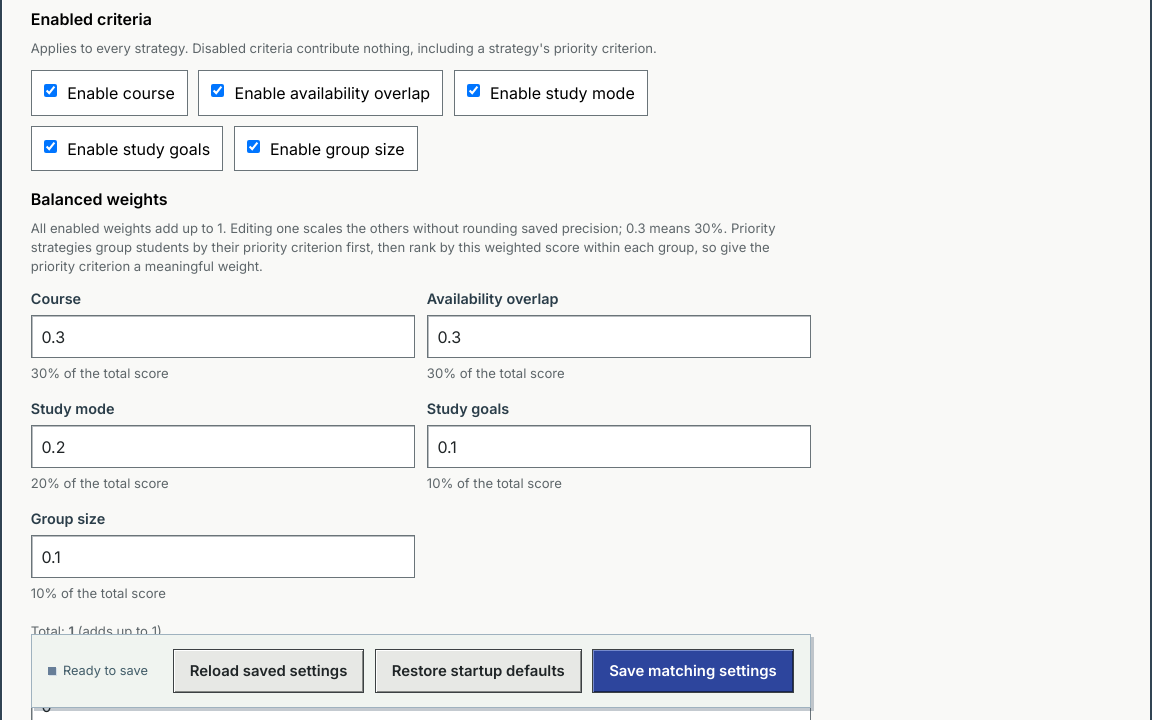
Test: admin matching settings › clears an earlier error as soon as a weight changes
The image size is (1152, 720).
(page scrolled)
Replace the text in the number field labelled "Course" with "10" at (223, 337), box [31,316,415,358]
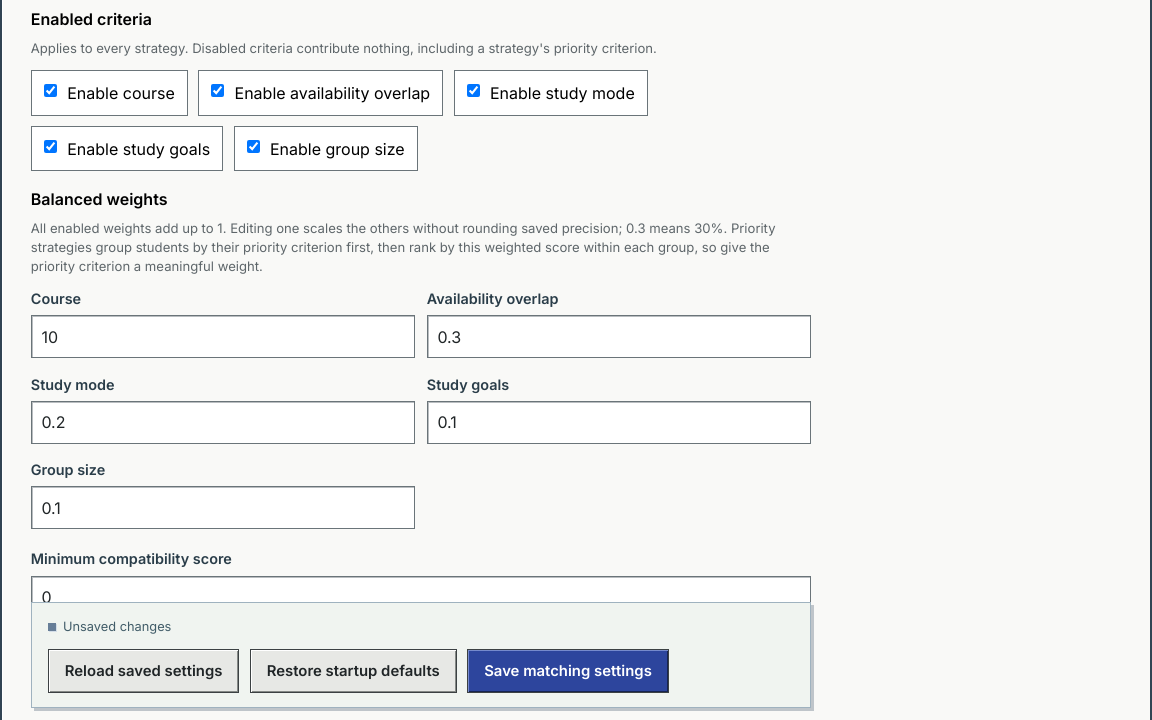
Click the button "Save matching settings" at (568, 671), box [467,649,669,693]
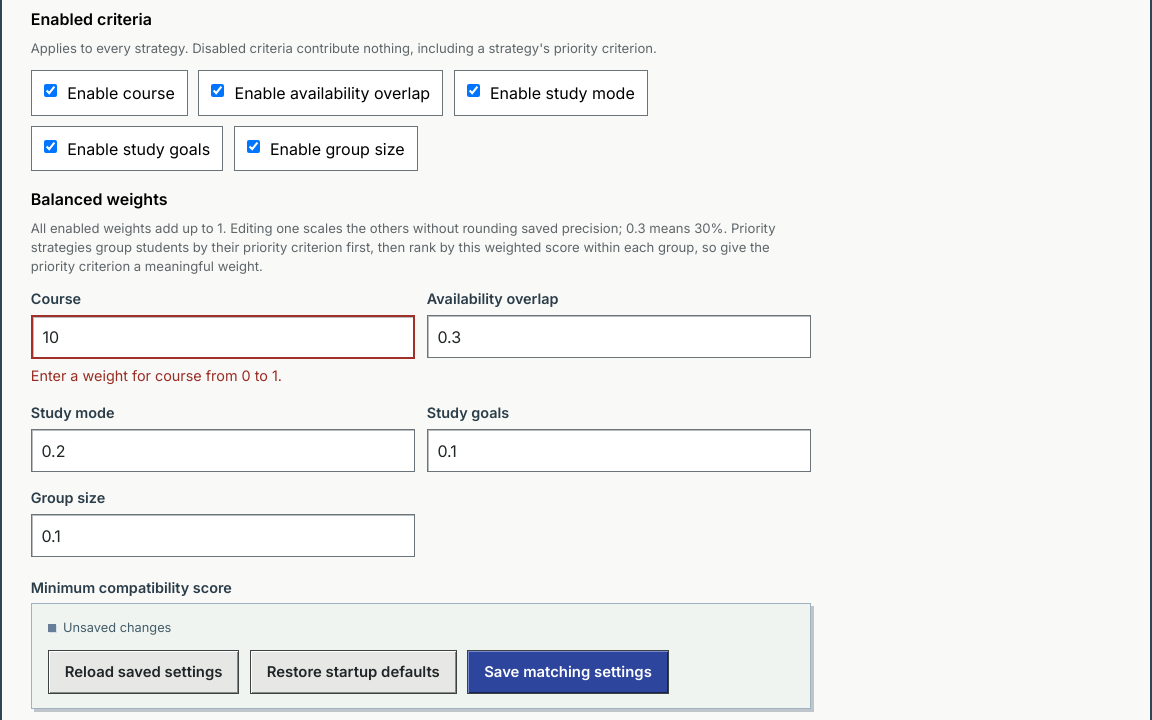
Expected: the text "Enter a weight for course from 0 to 1." is shown, [31,367,282,384]
Replace the text in the number field labelled "Course" with "0.5" at (223, 338), box [31,316,415,360]
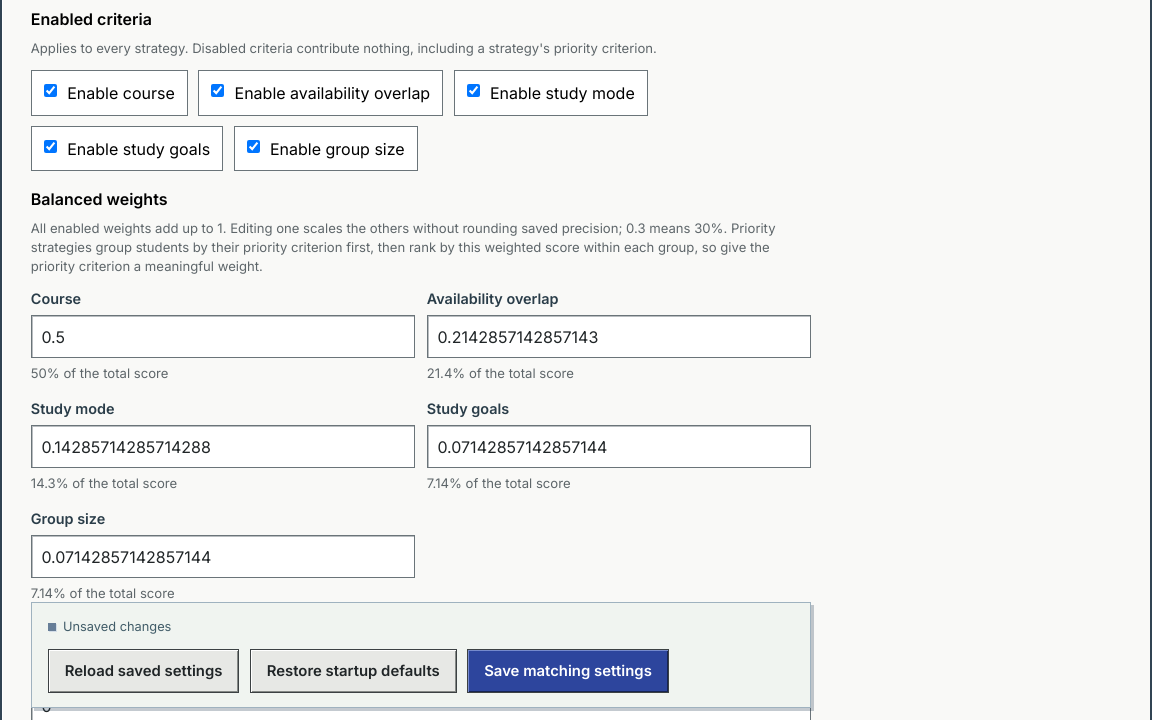
Expected: the text "Enter a weight for course from 0 to 1." is gone
